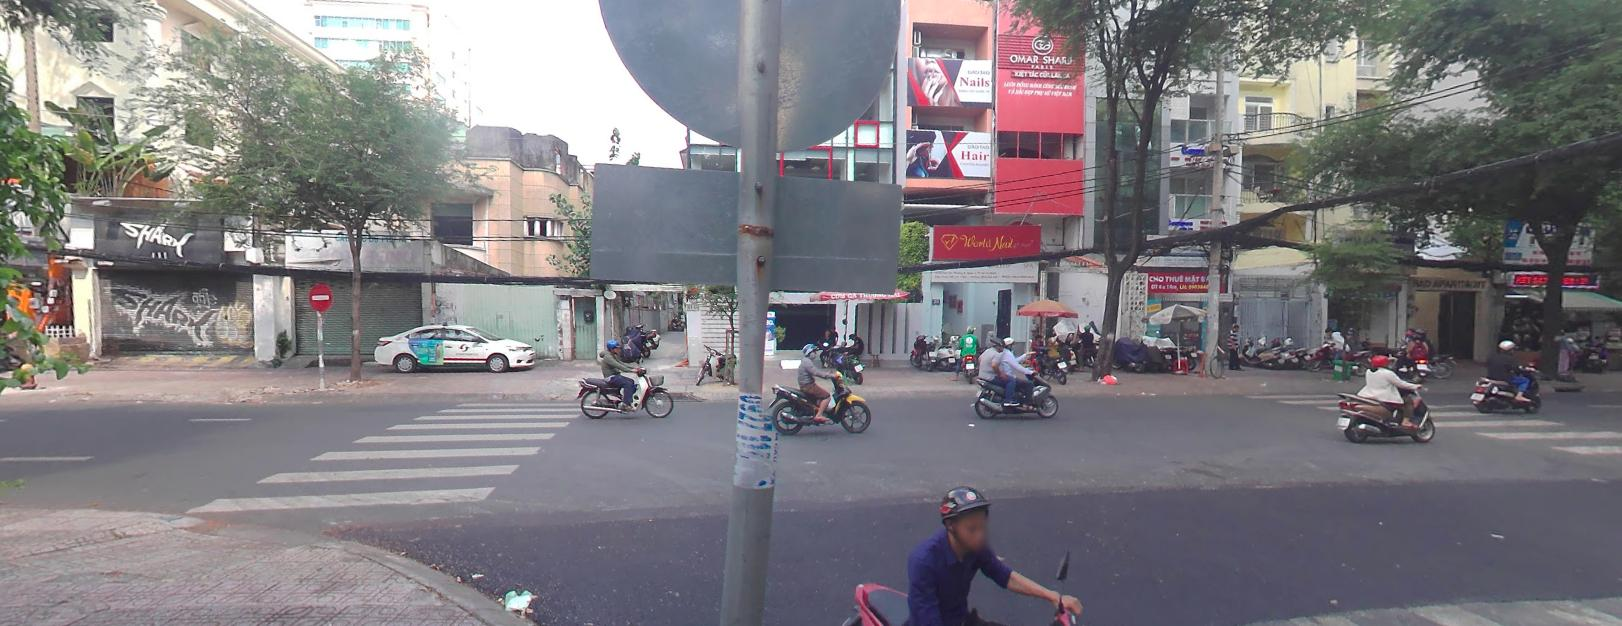Cam nguoc chieu: (308, 282, 331, 308)
